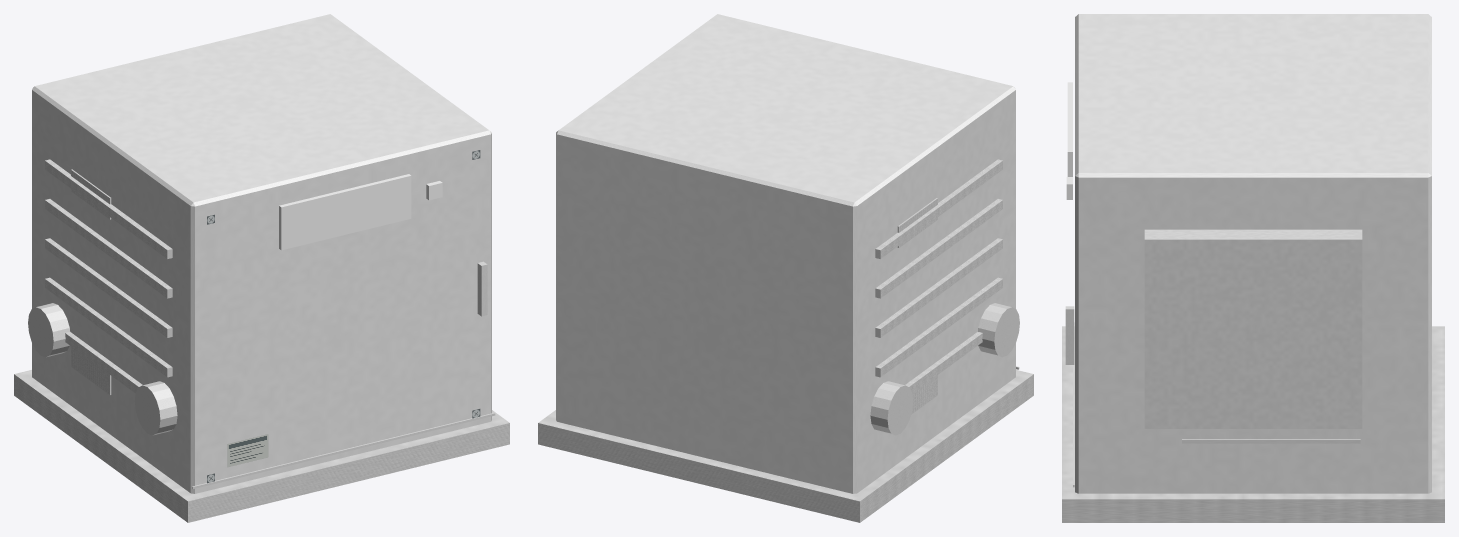
File: ceepowerbridge.obj
3 views of the same model, side by side, from view 1: azimuth 30°, elevation 25°; view 2: azimuth 150°, elevation 25°; view 3: azimuth 270°, elevation 25° (orthographic). The views are drawn at different scales.
Visible parts, largest first — view 1: Case, Trim, Screen, Input; view 2: Case, Trim, Input; view 3: Case, Output, Trim, Screen.
Part boxes in pixels (left/top/right/bottom): Case: left=32, top=14, right=491, bottom=493; Trim: left=14, top=150, right=509, bottom=522; Screen: left=279, top=174, right=411, bottom=250; Input: left=28, top=303, right=177, bottom=435; Case: left=556, top=14, right=1015, bottom=493; Trim: left=538, top=159, right=1033, bottom=522; Input: left=870, top=303, right=1019, bottom=435; Case: left=1075, top=14, right=1431, bottom=493; Output: left=1144, top=229, right=1362, bottom=428; Trim: left=1062, top=306, right=1444, bottom=522; Screen: left=1067, top=82, right=1072, bottom=176.
Bounding box in the file's own units: 0.985 × 0.87 × 0.88.
